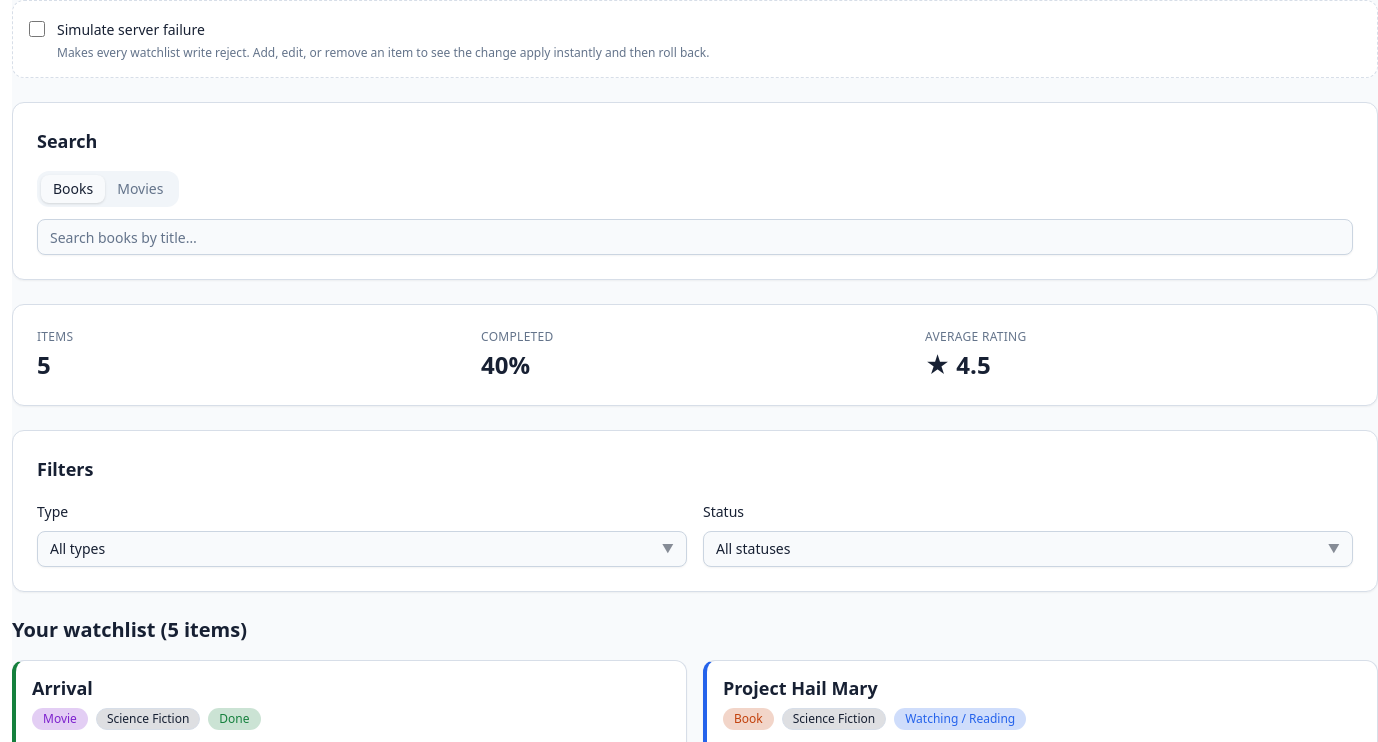
it: WatchlistPage › filters the rendered list through the Radix type selector
Expected: the link "Arrival" is shown, [32, 676, 93, 700]
What coordinates should you click on to do the following:
click the dropdown named "Filter list by type"
I would click on:
 (78, 548)
Its box is [37, 531, 687, 567].
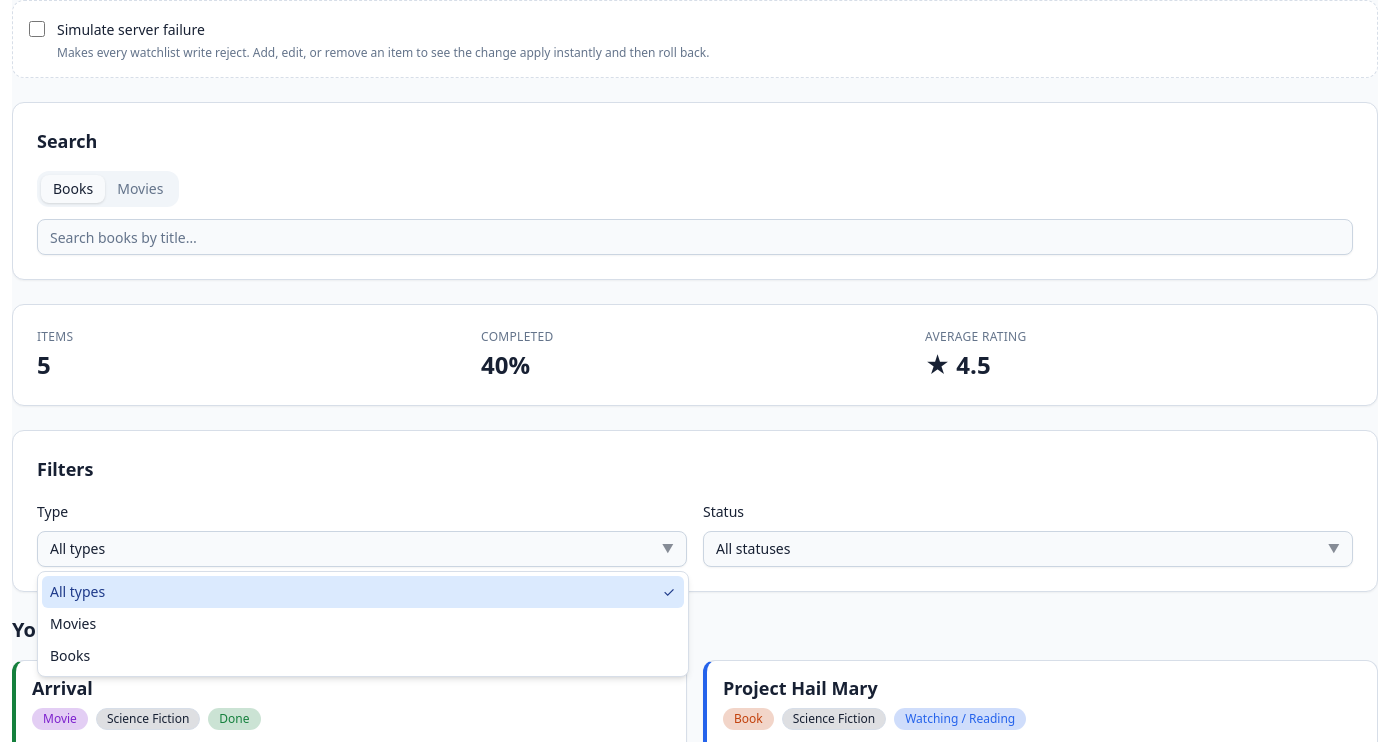
What coordinates should you click on to do the following:
click the option "Books"
I would click on:
 (70, 656)
Its box is [50, 646, 90, 665].
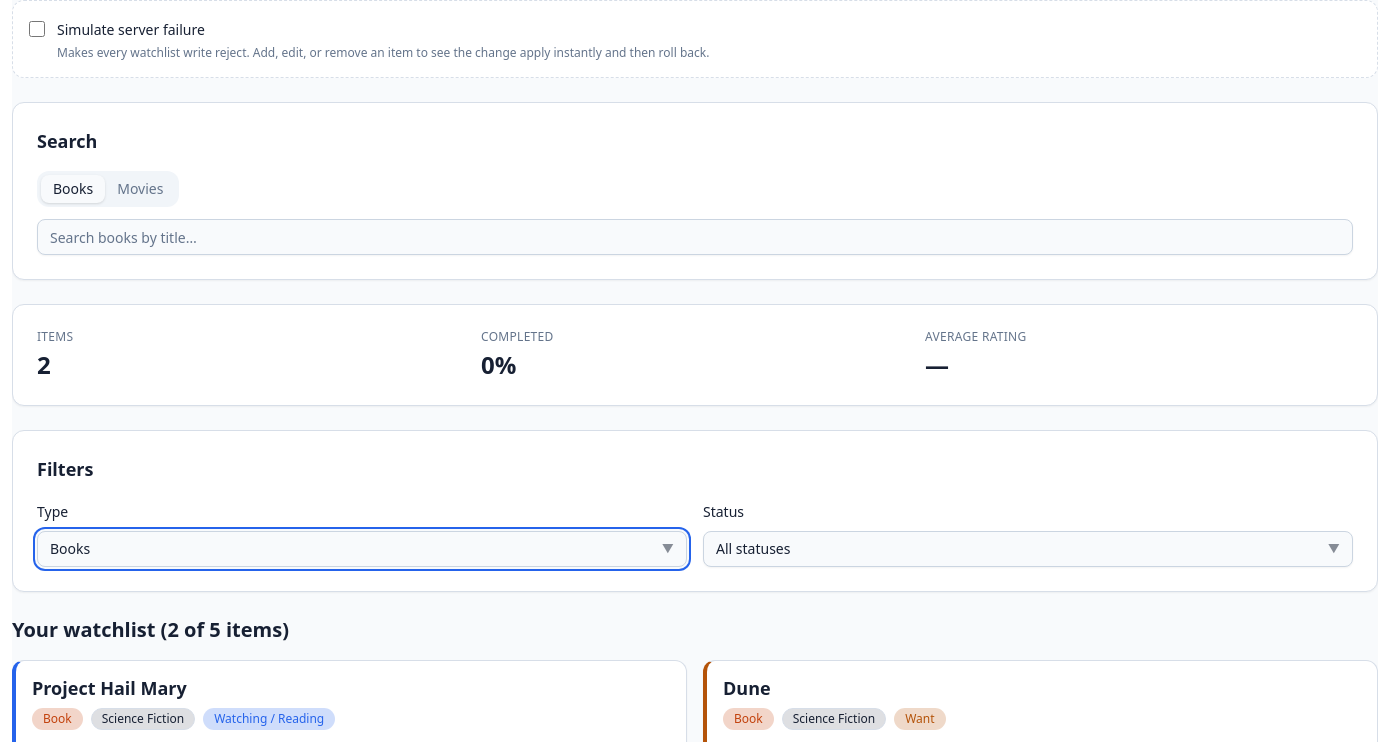
Expected: the link "Project Hail Mary" is shown, [32, 676, 187, 700]
Expected: the link "Arrival" is gone
Expected: the heading "Your watchlist (2 of 5 items)" is shown, [12, 616, 289, 644]
